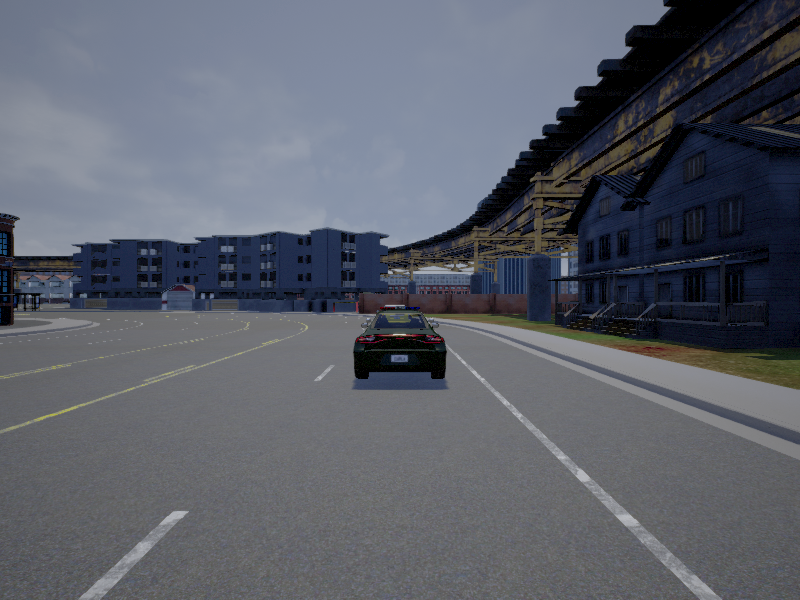benign: (353, 307, 446, 381)
